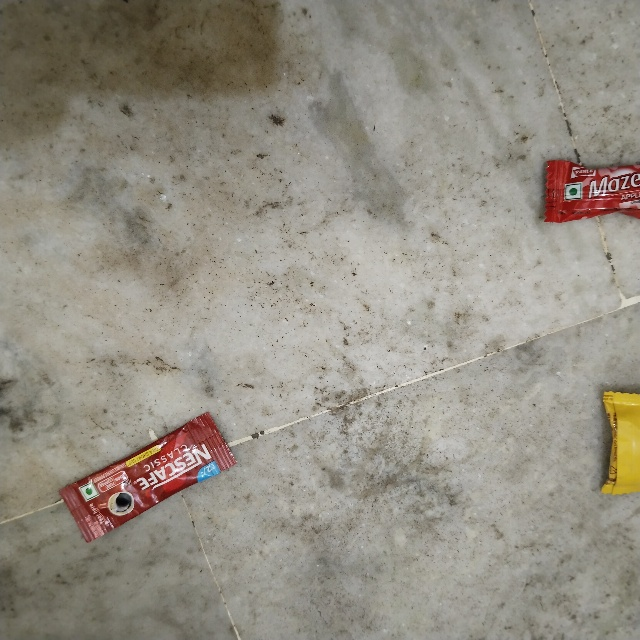Alpenlibe Creamfills: (602, 392, 640, 489)
Mazelo: (542, 162, 640, 219)
Nescafe Coffee: (57, 488, 230, 553)
